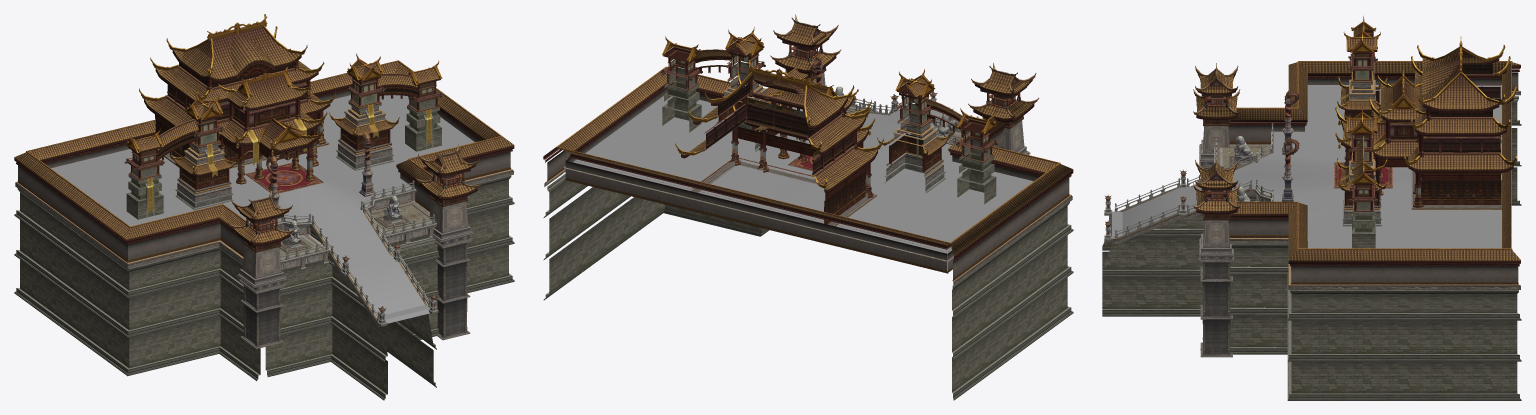
Rendered from ZC_001chenxingge_x01.FBX.
3 views of the same model, side by side, from view 1: azimuth 30°, elevation 25°; view 2: azimuth 150°, elevation 25°; view 3: azimuth 270°, elevation 25° (orthographic). The views are drawn at different scales.
Visible parts, largest first — view 1: ZC_001chenxingge_x01, ZC_001chenxingge_x01_lujing; view 2: ZC_001chenxingge_x01, ZC_001chenxingge_x01_lujing; view 3: ZC_001chenxingge_x01, ZC_001chenxingge_x01_lujing.
Part boxes in pixels (<box>): ZC_001chenxingge_x01: <box>14,14,514,400</box>; ZC_001chenxingge_x01_lujing: <box>51,95,474,323</box>; ZC_001chenxingge_x01: <box>543,14,1073,400</box>; ZC_001chenxingge_x01_lujing: <box>566,96,1033,260</box>; ZC_001chenxingge_x01: <box>1102,16,1521,400</box>; ZC_001chenxingge_x01_lujing: <box>1109,85,1501,248</box>.
Size of the model in its own units: 75.71 by 45.75 by 68.61.
